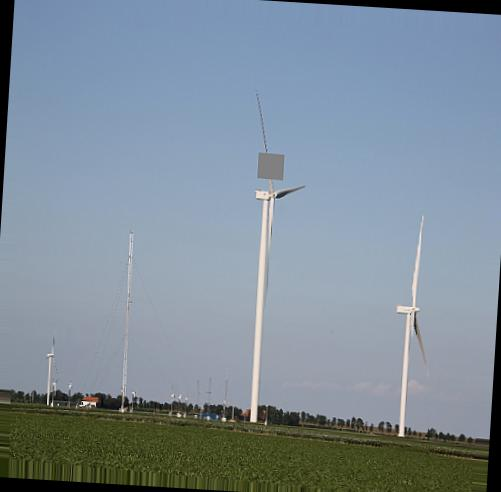wind turbine: (249, 94, 309, 425), (393, 216, 429, 439)
